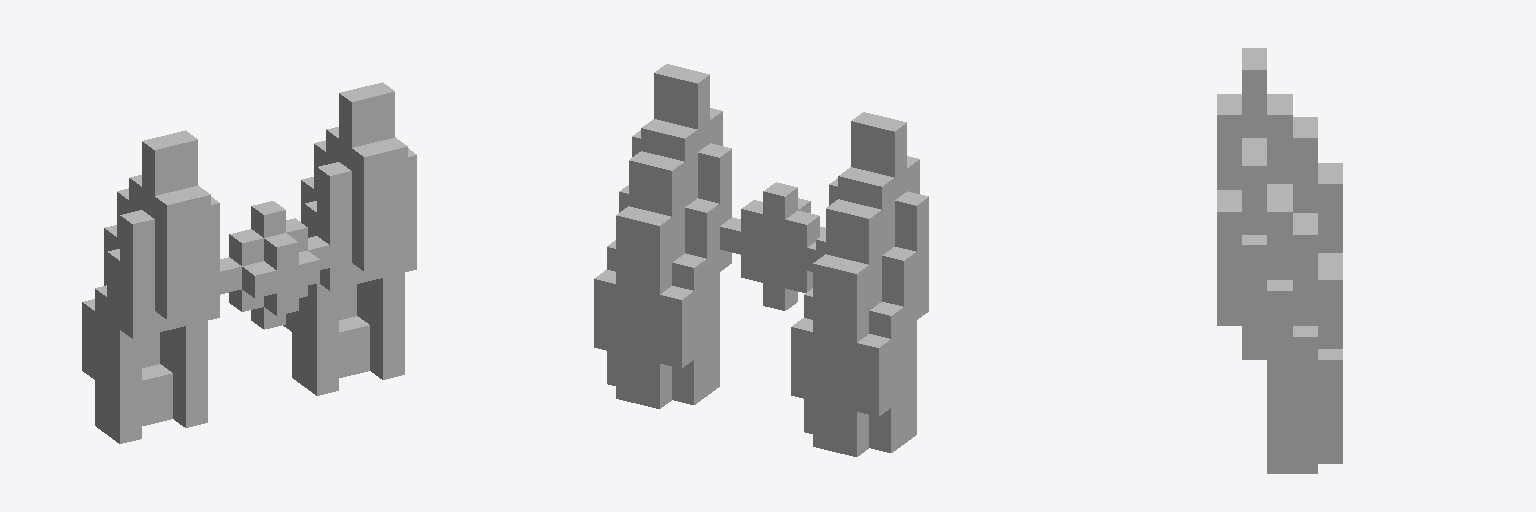
The model's file is Dash_Item.obj.
The picture shows the model from 3 angles: view 1: azimuth 30°, elevation 25°; view 2: azimuth 150°, elevation 25°; view 3: azimuth 270°, elevation 25°; orthographic projection.
Visible parts, largest first — view 1: object 1; view 2: object 1; view 3: object 1.
Boxes of the visible parts, box(x1,y1,x2,y2) form: object 1: box(82, 82, 416, 443); object 1: box(594, 64, 928, 456); object 1: box(1217, 48, 1342, 473).
Size of the model in its own units: 1.3 by 1.3 by 0.5.